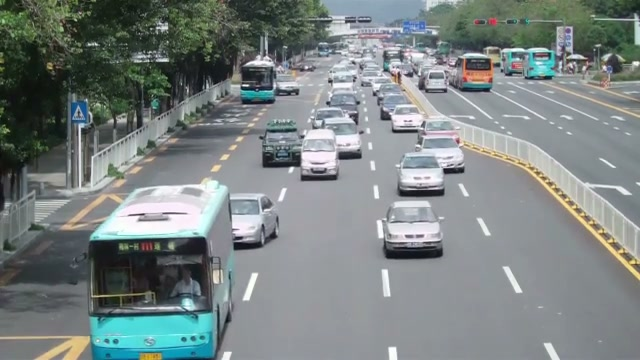bus: (86, 182, 237, 358), (450, 52, 495, 91), (240, 60, 276, 104), (510, 48, 554, 79), (524, 48, 555, 79), (500, 48, 527, 76)
car: (377, 199, 445, 259), (229, 192, 280, 247), (396, 152, 447, 196), (260, 117, 302, 168), (300, 128, 340, 180), (417, 134, 465, 173), (324, 119, 362, 159), (390, 104, 424, 133), (309, 107, 348, 130), (379, 93, 411, 120)
pedestrian: (170, 267, 202, 298)
